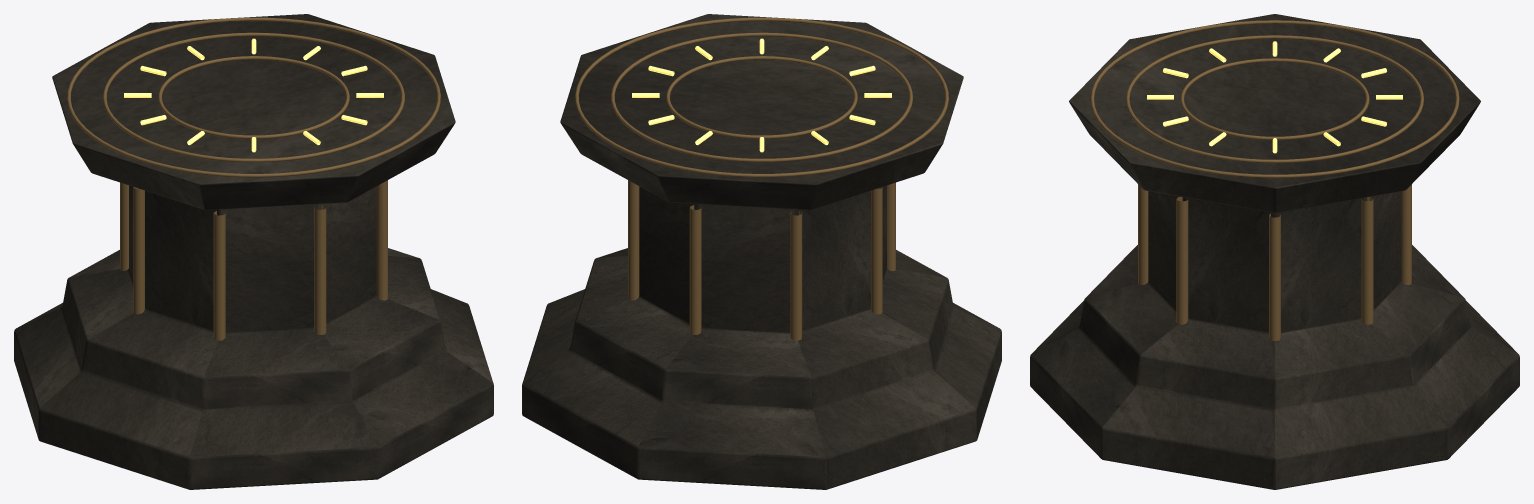
File: C08_covenant_altar.gltf
3 renders of one model, left to right at view 1: azimuth 30°, elevation 25°; view 2: azimuth 150°, elevation 25°; view 3: azimuth 270°, elevation 25°, orthographic.
Parts seen in each view (by area): view 1: Altar plinth, Altar inscription ring.002, Altar inscription ring.001, Altar inscription ring, Pedestal fluting.002, Pedestal fluting.003, Pedestal fluting.004, Pedestal fluting.001, Pedestal fluting.005; view 2: Altar plinth, Altar inscription ring.002, Altar inscription ring.001, Altar inscription ring, Pedestal fluting.006, Pedestal fluting.005, Pedestal fluting.004, Pedestal fluting.007, Pedestal fluting.003; view 3: Altar plinth, Altar inscription ring.002, Altar inscription ring.001, Altar inscription ring, Pedestal fluting.001, Pedestal fluting.007, Pedestal fluting, Pedestal fluting.002, Pedestal fluting.006.
Boxes of the visible parts, x1,y1,x2,y2 form: Altar plinth: (14,14,493,489); Altar inscription ring.002: (67,17,440,177); Altar inscription ring.001: (103,32,404,162); Altar inscription ring: (158,56,349,138); Pedestal fluting.002: (314,205,326,334); Pedestal fluting.003: (213,211,225,340); Pedestal fluting.004: (133,187,144,314); Pedestal fluting.001: (376,180,387,300); Pedestal fluting.005: (120,182,128,270); Altar plinth: (522,14,1001,489); Altar inscription ring.002: (575,17,948,177); Altar inscription ring.001: (611,32,912,162); Altar inscription ring: (666,56,857,138); Pedestal fluting.006: (689,205,701,334); Pedestal fluting.005: (790,211,802,340); Pedestal fluting.004: (871,187,882,314); Pedestal fluting.007: (628,180,639,300); Pedestal fluting.003: (887,182,895,270); Altar plinth: (1030,14,1519,489); Altar inscription ring.002: (1090,20,1459,178); Altar inscription ring.001: (1126,35,1423,163); Altar inscription ring: (1180,58,1369,140); Pedestal fluting.001: (1176,196,1188,324); Pedestal fluting.007: (1361,196,1373,324); Pedestal fluting: (1269,213,1280,340); Pedestal fluting.002: (1138,184,1148,284); Pedestal fluting.006: (1401,184,1411,284).
Size of the model in its own units: 1.8 by 1.18 by 1.8.
Materials: 3 (1 with a texture image).
